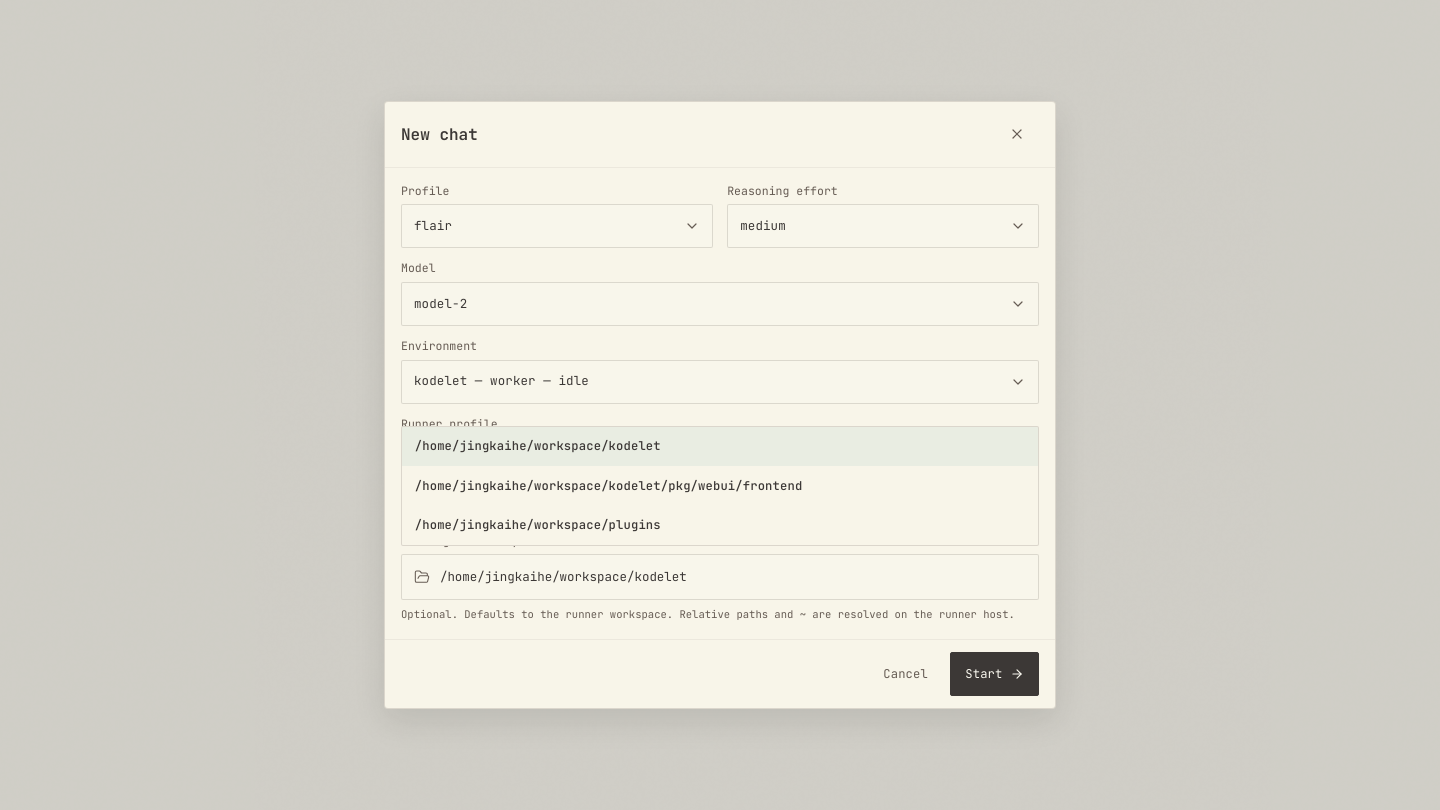
Test: NewChatContextDialog › keeps the selected model first, then orders model versions descending without mutating props
This screenshot has width=1440, height=810.
Click the dropdown labelled "model". click: [441, 303]
box: top-left (401, 282), bottom-right (1039, 326)
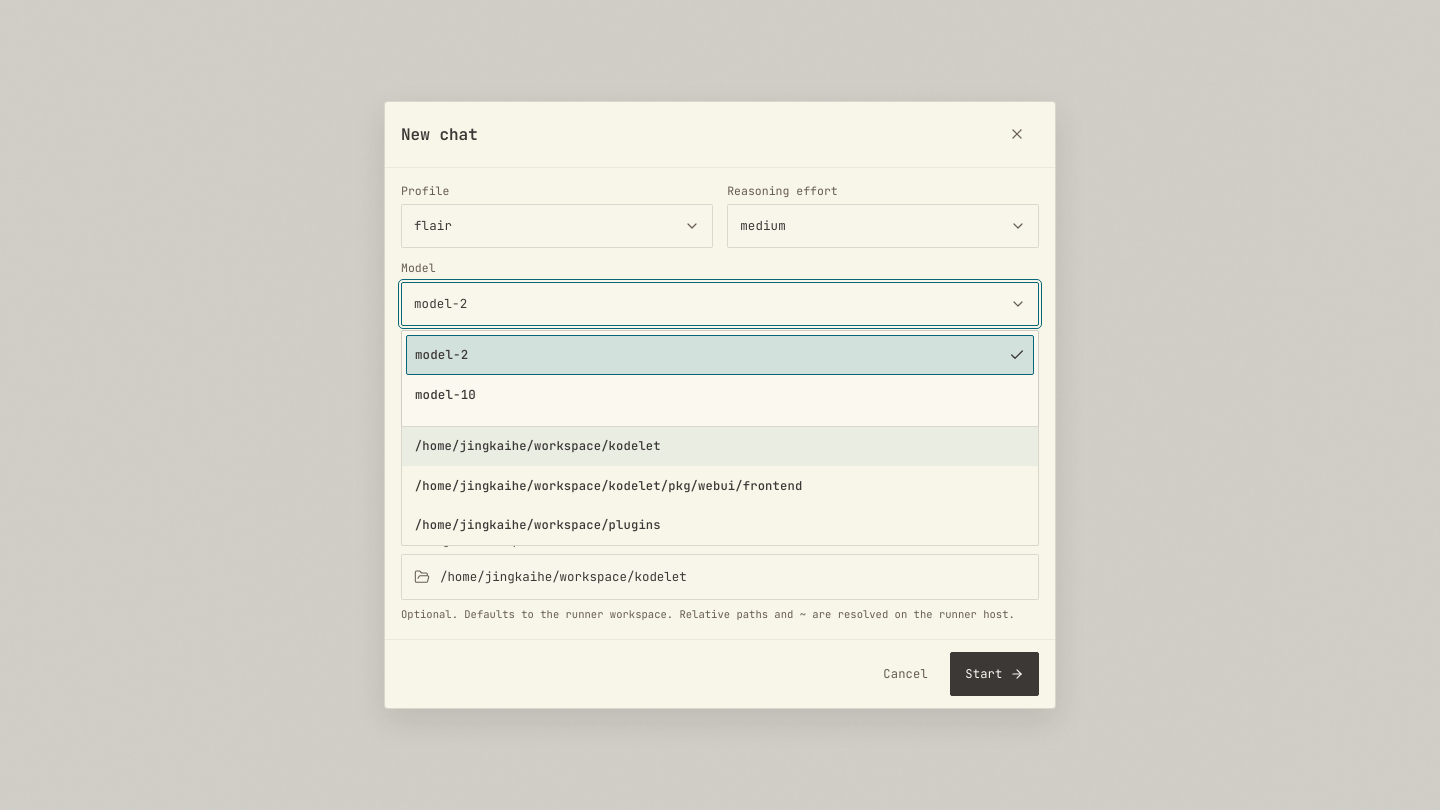
Press ArrowDown in the dropdown labelled "model", box top-left (401, 282), bottom-right (1039, 326)
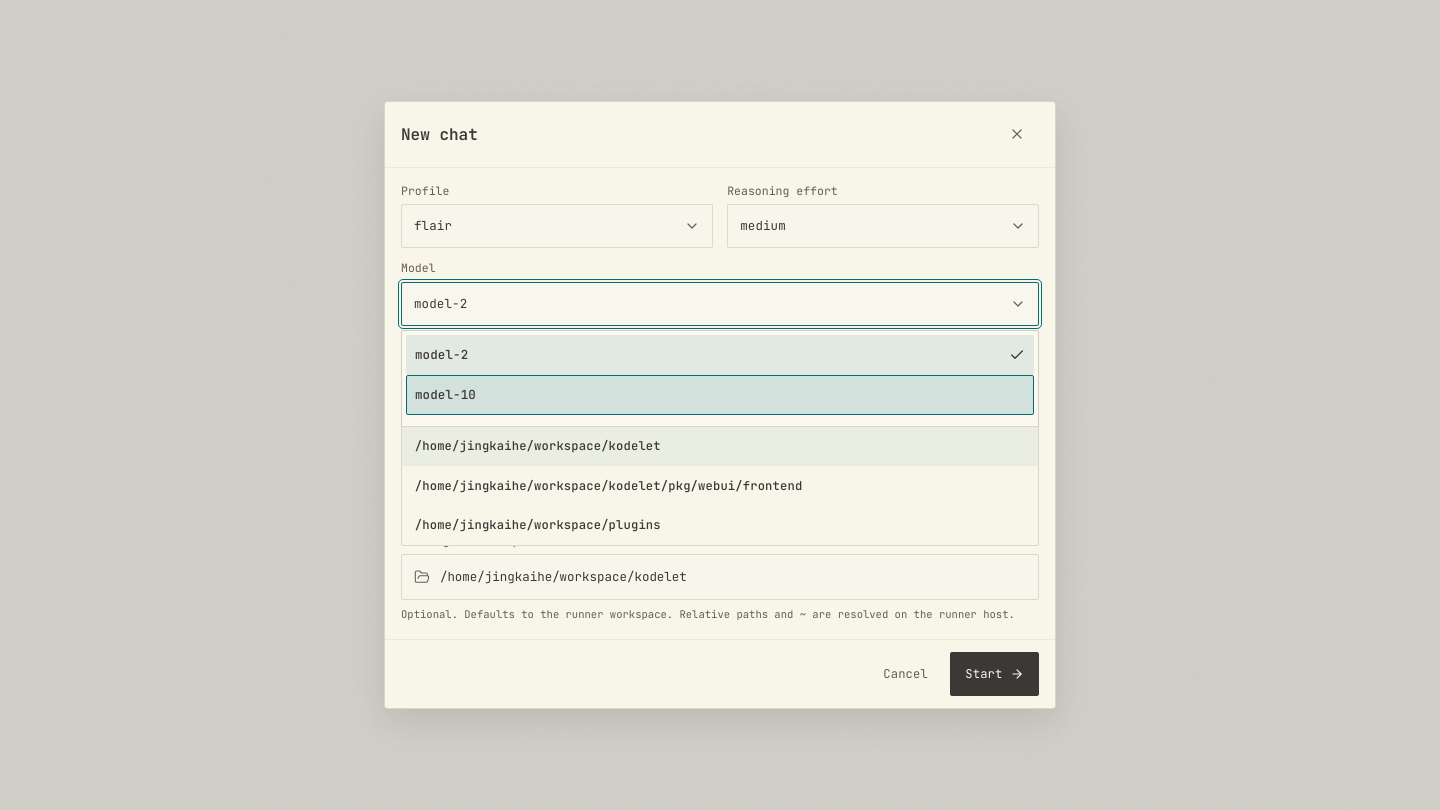
Press Enter in the dropdown labelled "model", box top-left (401, 282), bottom-right (1039, 326)
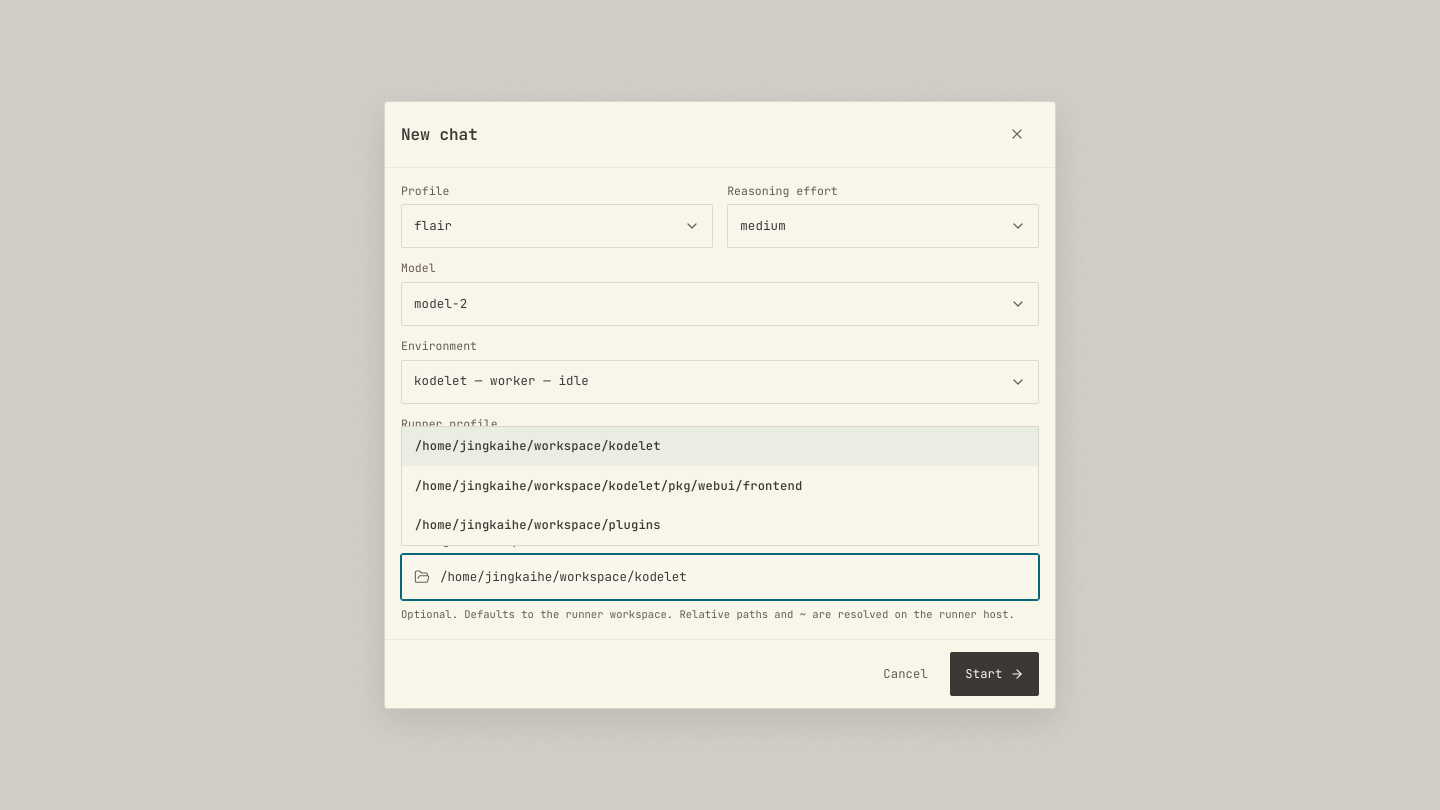
Result: the list "model-2 model-10 model-2.10 model-2.9" is gone
